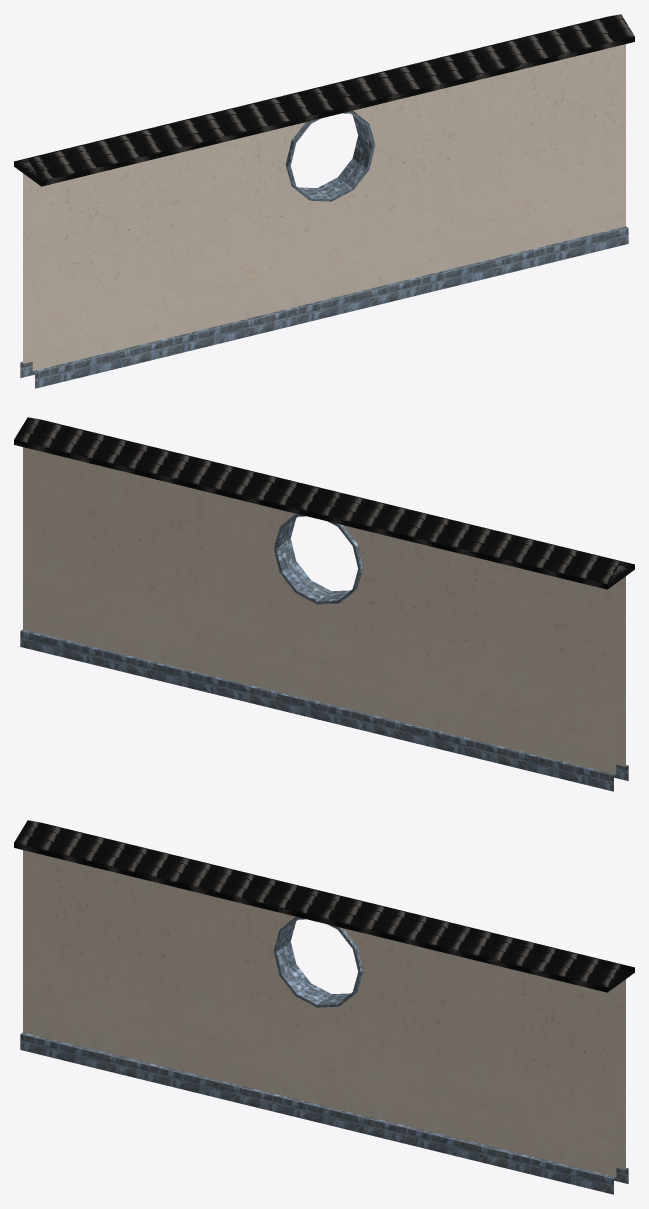
The model's file is WallHighHighJump02.fbx.
3 renders of one model, top to bottom at view 1: azimuth 30°, elevation 25°; view 2: azimuth 150°, elevation 25°; view 3: azimuth 330°, elevation 25°, orthographic.
Parts seen in each view (by area): view 1: Cube_026, Cube_046, Cube_047, Cube_049; view 2: Cube_026, Cube_046, Cube_047, Cube_049; view 3: Cube_026, Cube_046, Cube_047, Cube_049.
Part boxes in pixels (x1=…): Cube_026: x1=23, y1=44, x2=625, y2=370; Cube_046: x1=14, y1=14, x2=634, y2=186; Cube_047: x1=20, y1=226, x2=628, y2=388; Cube_049: x1=285, y1=110, x2=375, y2=201; Cube_026: x1=23, y1=447, x2=625, y2=773; Cube_046: x1=14, y1=417, x2=634, y2=589; Cube_047: x1=20, y1=629, x2=628, y2=791; Cube_049: x1=273, y1=513, x2=363, y2=604; Cube_026: x1=23, y1=850, x2=625, y2=1176; Cube_046: x1=14, y1=820, x2=634, y2=992; Cube_047: x1=20, y1=1032, x2=628, y2=1194; Cube_049: x1=273, y1=916, x2=363, y2=1007.
Bounding box in the file's own units: 2155 × 779 × 173.
